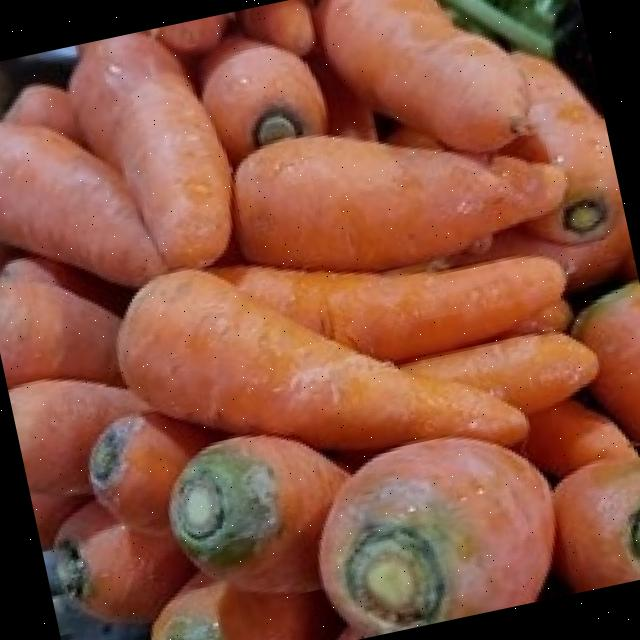carrot: (120, 272, 527, 448), (0, 32, 231, 285), (320, 437, 554, 635), (235, 135, 564, 270), (0, 88, 165, 283), (315, 0, 529, 148), (169, 435, 347, 590), (169, 446, 279, 563)
